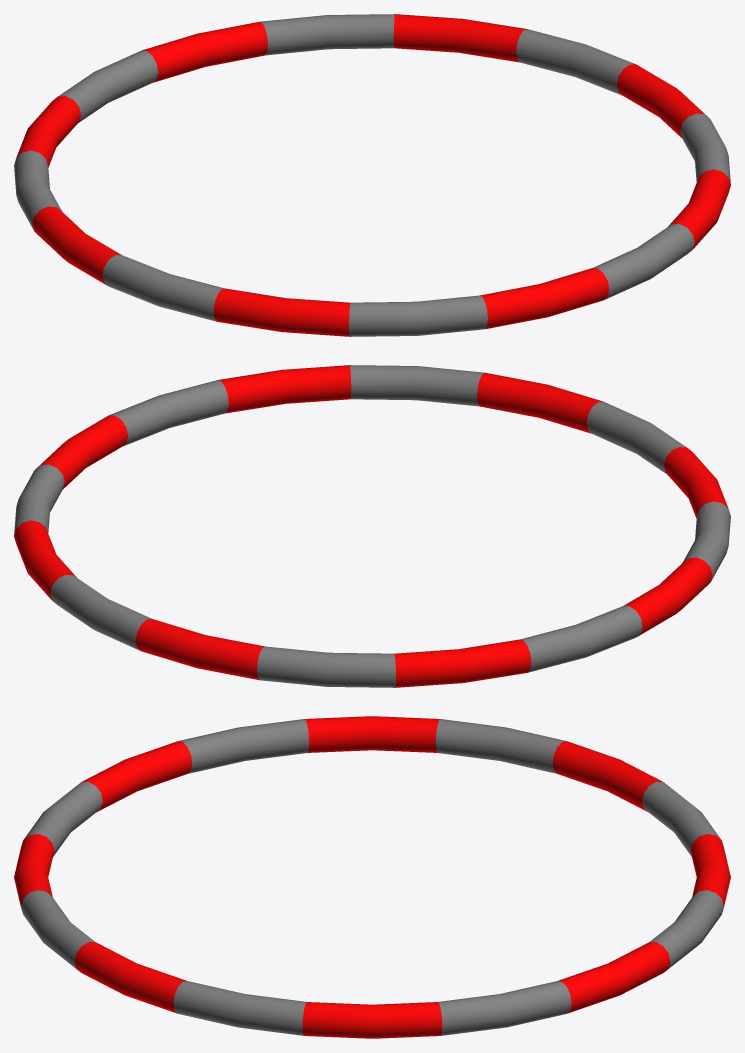
3 renders of one model, top to bottom at view 1: azimuth 30°, elevation 25°; view 2: azimuth 150°, elevation 25°; view 3: azimuth 270°, elevation 25°, orthographic.
Parts seen in each view (by area): view 1: Torus001; view 2: Torus001; view 3: Torus001.
Boxes of the visible parts, x1,y1,x2,y2 form: Torus001: [14, 14, 730, 336]; Torus001: [14, 365, 730, 687]; Torus001: [14, 716, 730, 1038].
Bounding box in the file's own units: 141 × 6.73 × 141.
